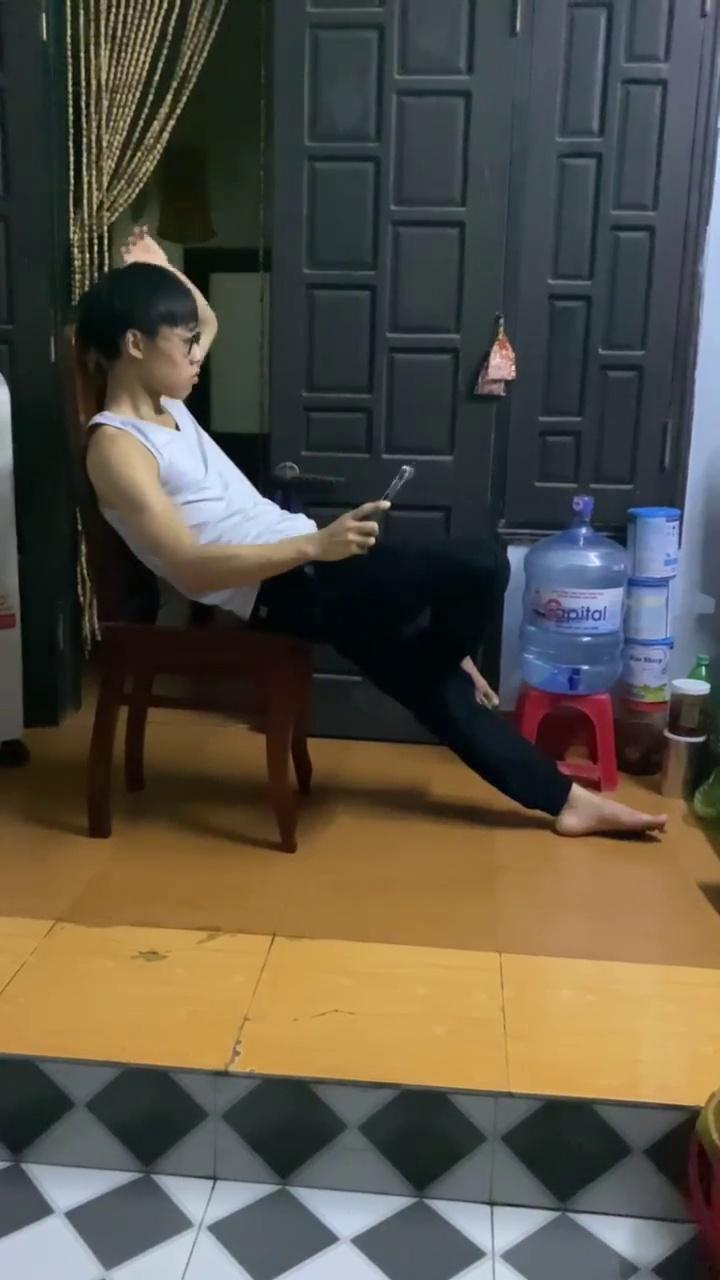BadPosture: (75, 228, 666, 840), (75, 228, 377, 620)
